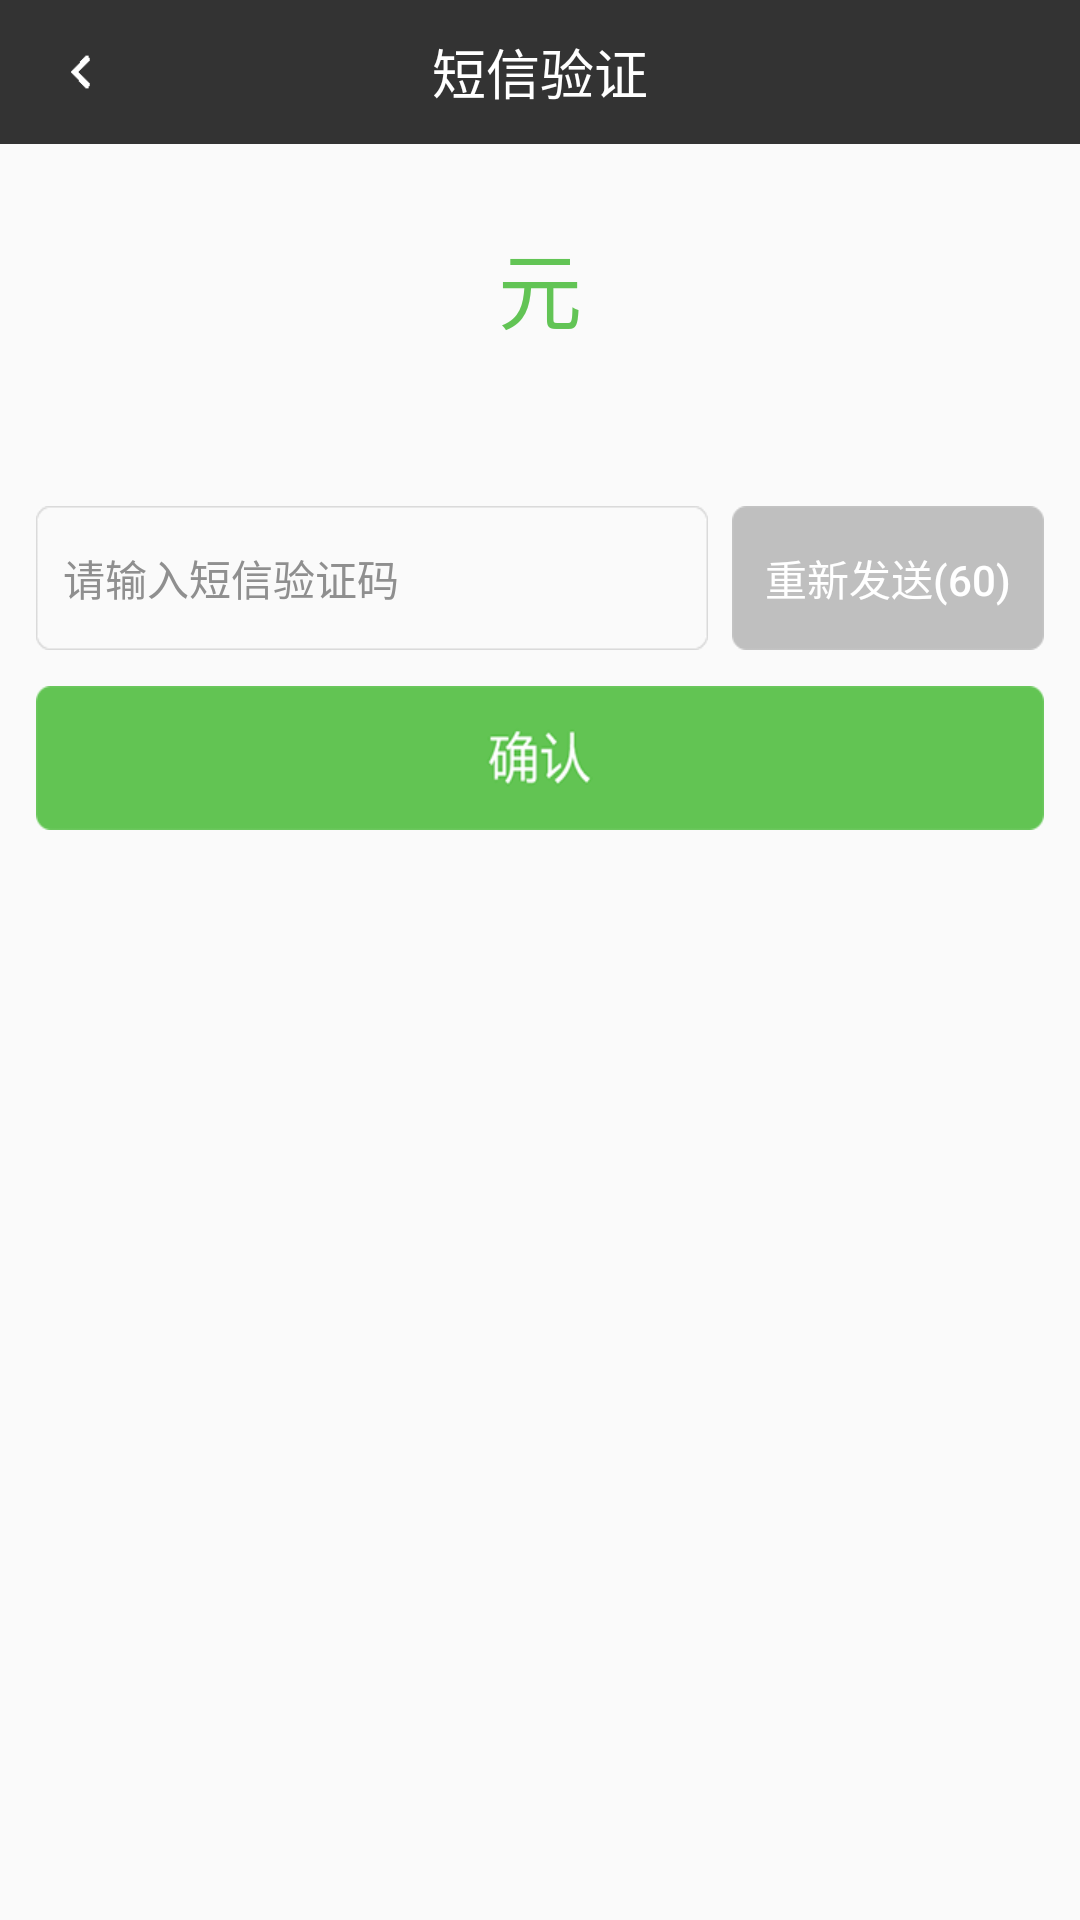

Where to tap for icons on this 1080 x 1920 app screen, as (x,y):
lepay back: (80,72)
